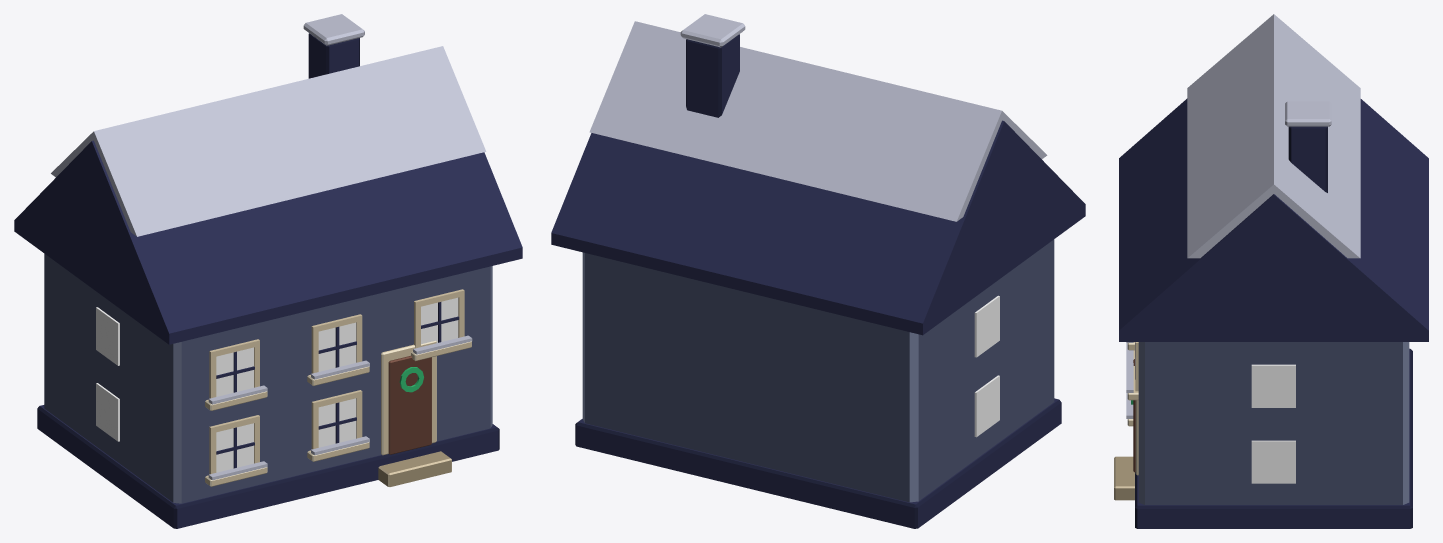
Rendered from Intro_House_B.fbx.
3 renders of one model, left to right at view 1: azimuth 30°, elevation 25°; view 2: azimuth 150°, elevation 25°; view 3: azimuth 270°, elevation 25°, orthographic. The views are drawn at different scales.
Visible parts, largest first — view 1: Intro_House_B, Intro_House_B_Windows; view 2: Intro_House_B, Intro_House_B_Windows; view 3: Intro_House_B, Intro_House_B_Windows.
Boxes of the visible parts, <box> form: Intro_House_B: <box>14,14,522,528</box>; Intro_House_B_Windows: <box>96,297,458,472</box>; Intro_House_B: <box>551,14,1085,528</box>; Intro_House_B_Windows: <box>974,295,999,437</box>; Intro_House_B: <box>1114,14,1428,528</box>; Intro_House_B_Windows: <box>1251,364,1295,483</box>.
Size of the model in its own units: 16.6 by 17.05 by 12.8.
1 material, 1 textured.
